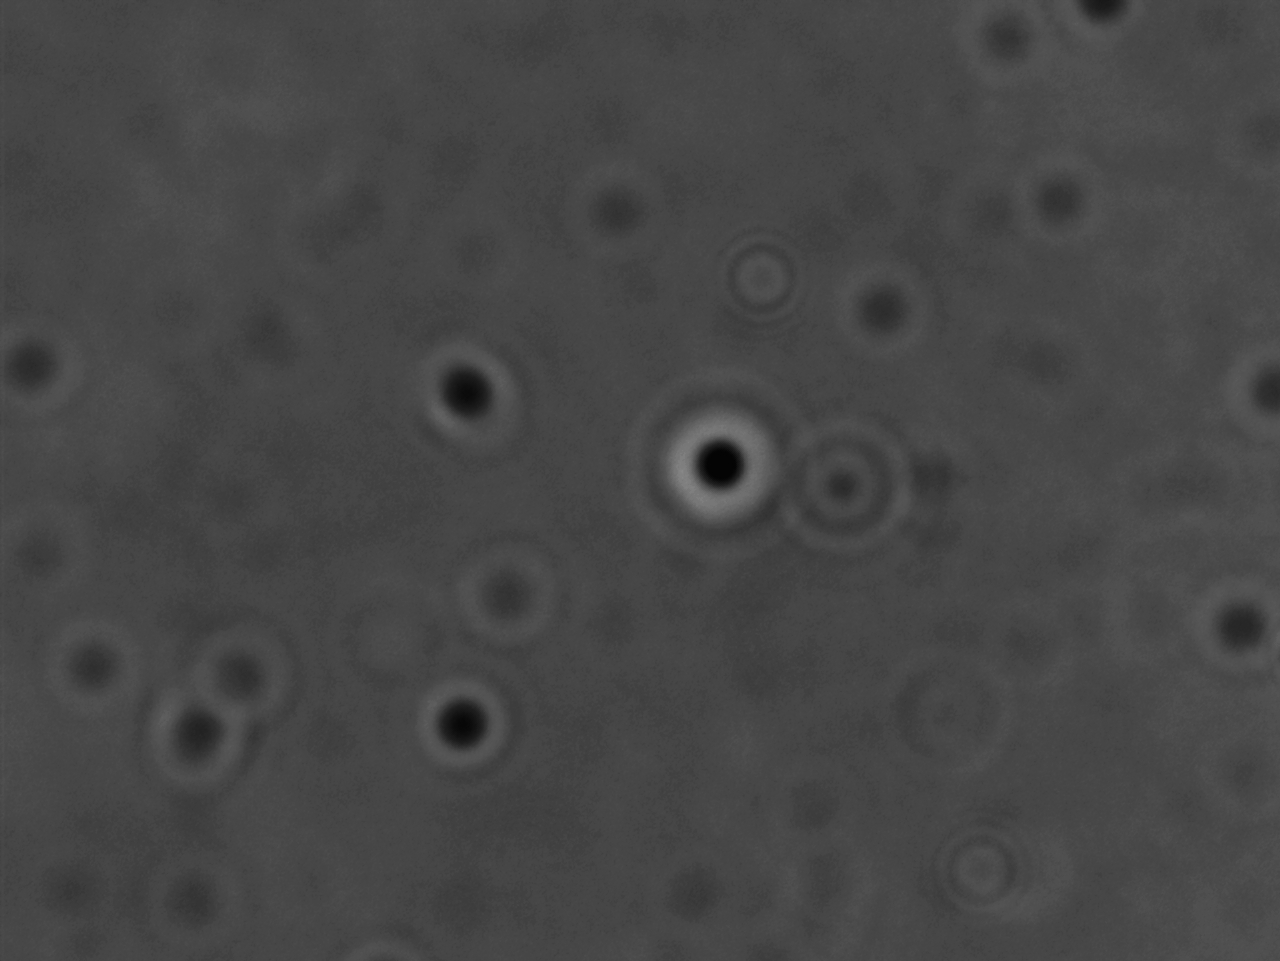depth:-32: (619, 371, 815, 558)
